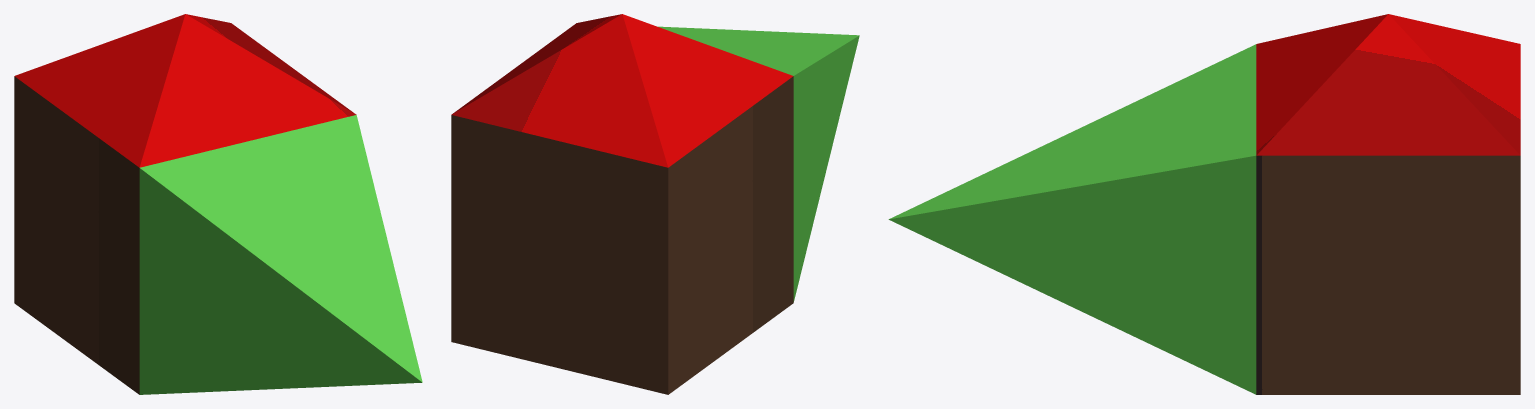
Rendered from direction_cube.glb.
The picture shows the model from 3 angles, left to right: view 1: azimuth 30°, elevation 25°; view 2: azimuth 150°, elevation 25°; view 3: azimuth 270°, elevation 25°; orthographic projection. The views are drawn at different scales.
Visible parts, largest first — view 1: direction_cube; view 2: direction_cube; view 3: direction_cube.
Part boxes in pixels (x1,y1,x2,y2): direction_cube: (14,14,422,394); direction_cube: (451,14,859,394); direction_cube: (888,14,1520,394).
Size of the model in its own units: 2 by 2.72 by 4.79.
1 material, 1 textured.
